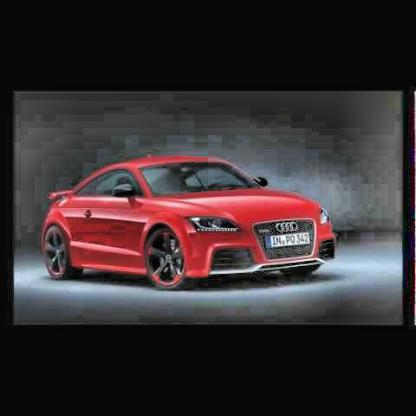Audi TT RS Coupe 2012: (43, 157, 336, 293)
